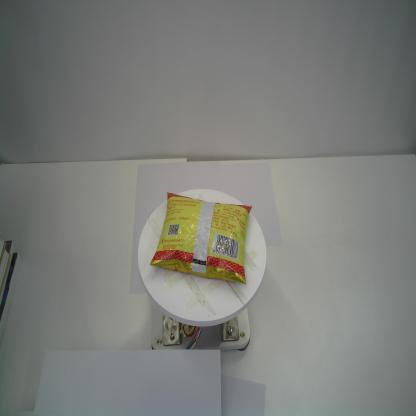Seasoner: (150, 191, 252, 285)
